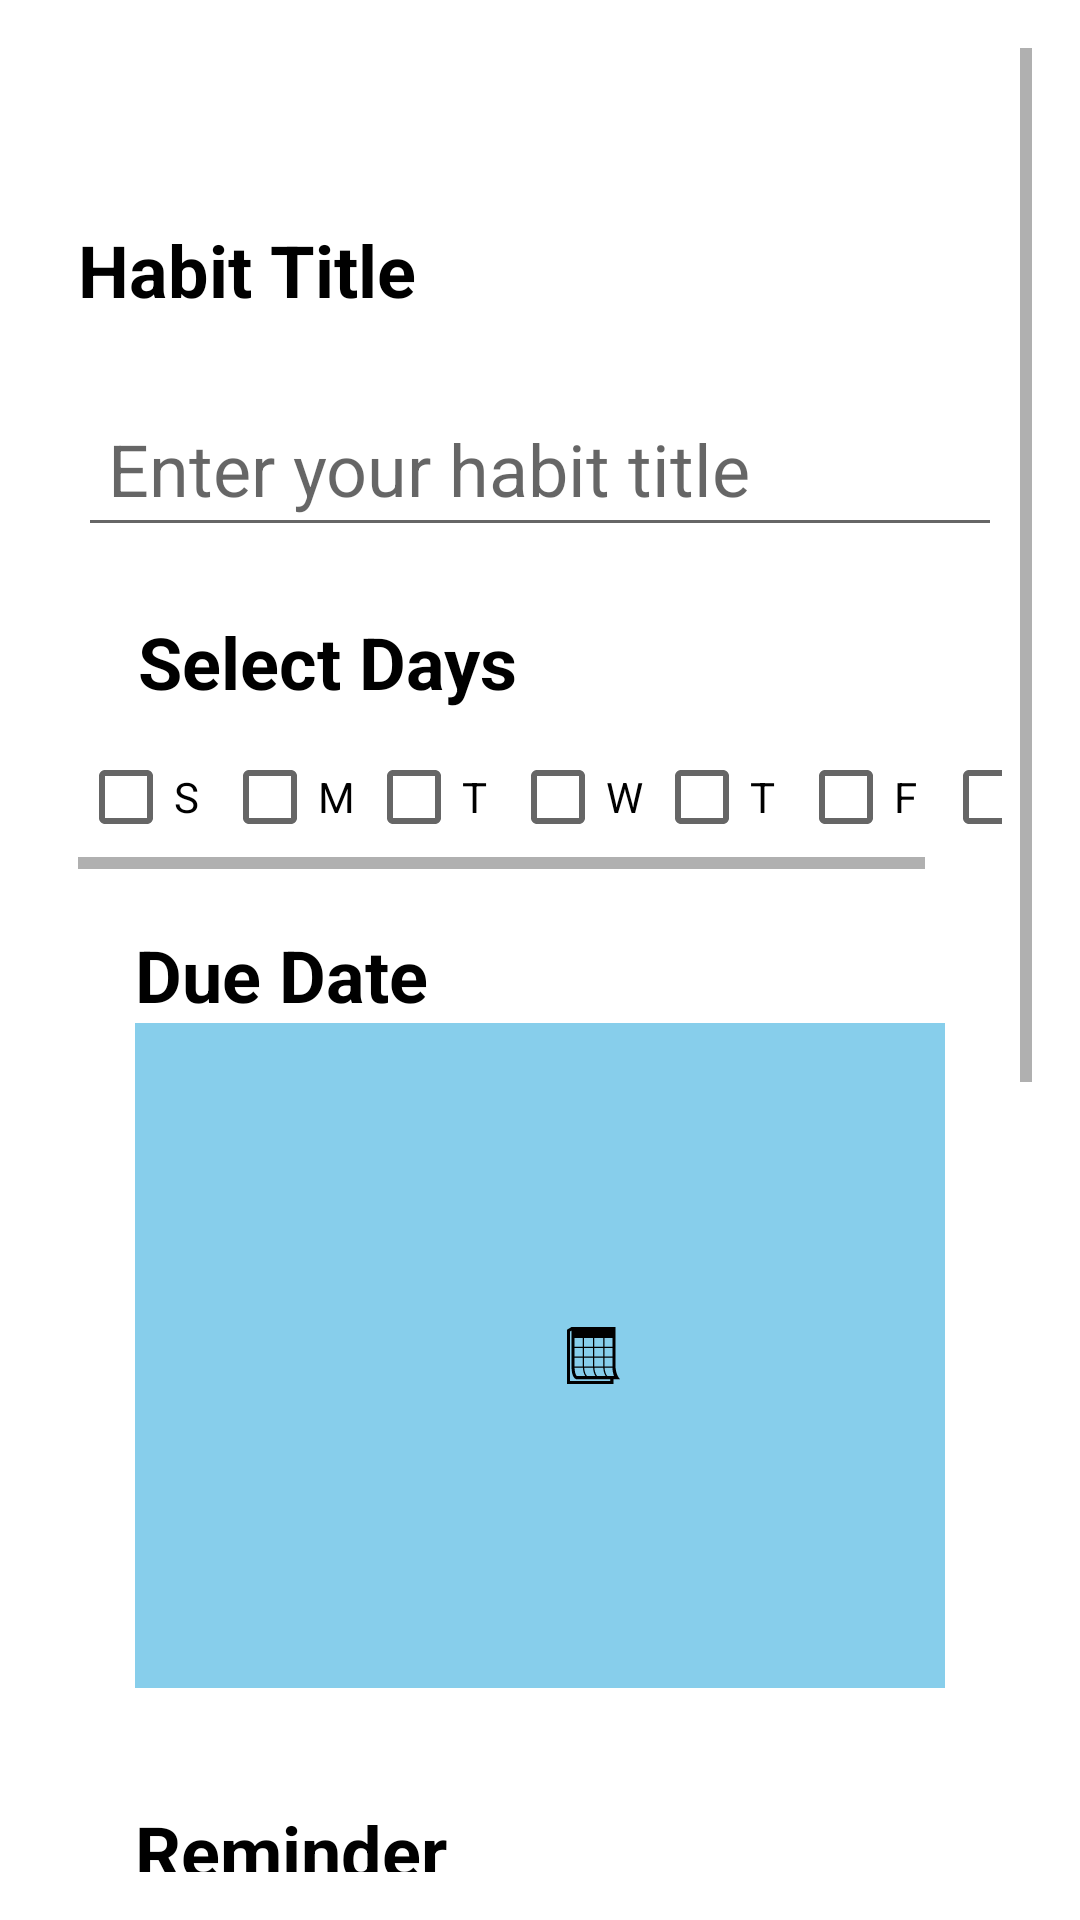

Locate icon controls on the screen. Image size 1080*1920, boxes as (x1, y1, x2, y2).
calendar: (567, 1327, 620, 1384)
